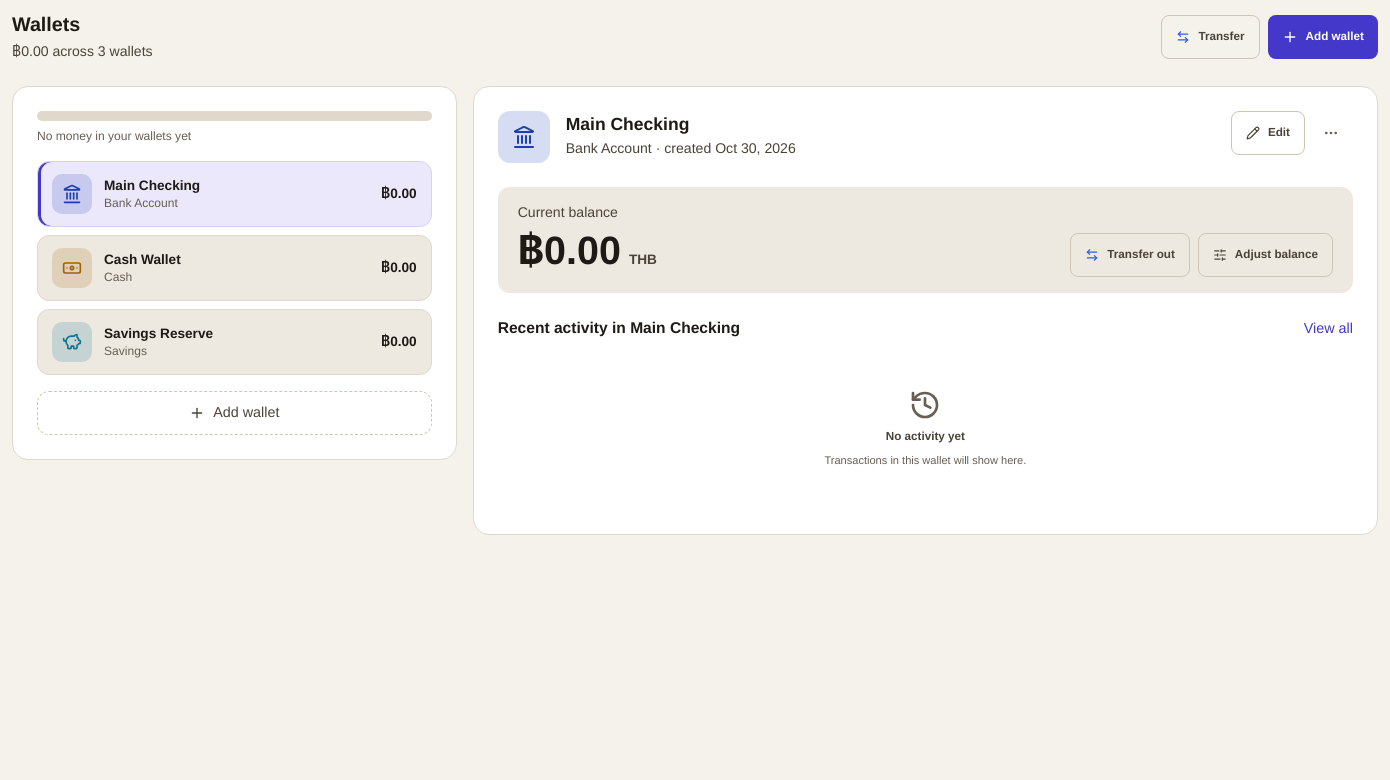
one render path per width › from lg, selects the first wallet and shows it inline, with no sheet
Expected: the heading with id "wallet-detail-title" reads "Main Checking", [566,110,689,140]
Click the button with id "wallet-entity-wal-cash". click: [72, 268]
box: [37,235,432,301]
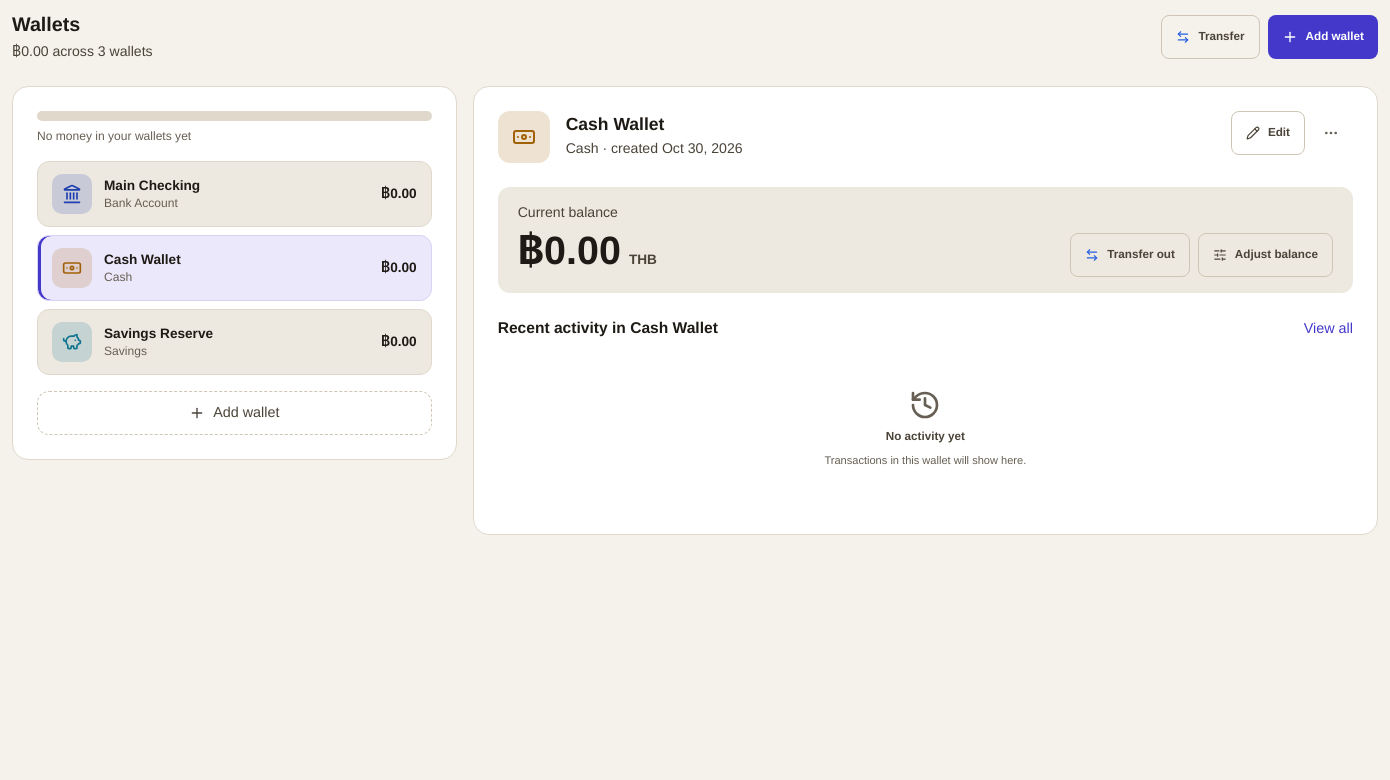
Result: the heading with id "wallet-detail-title" reads "Cash Wallet" at [566,110,664,140]
